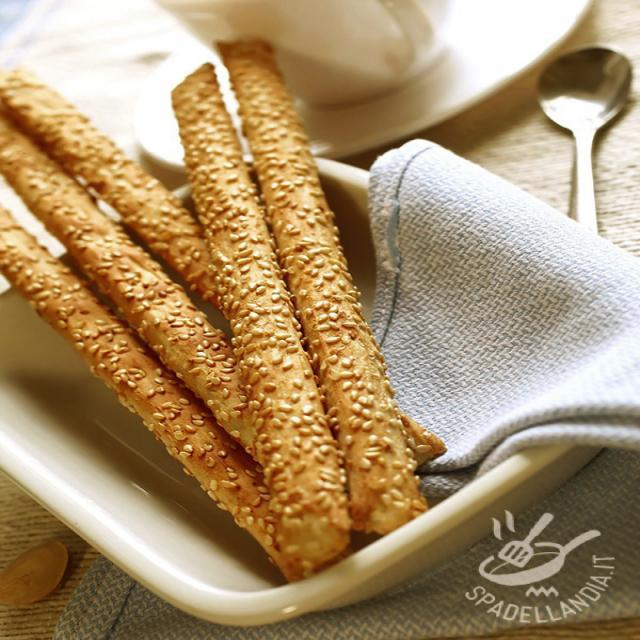Grissini: (9, 43, 444, 575)
